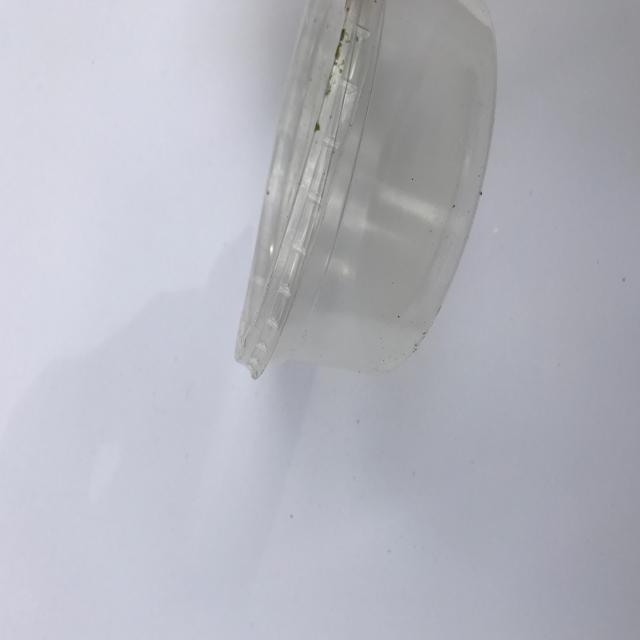plastic: (235, 0, 499, 380)
